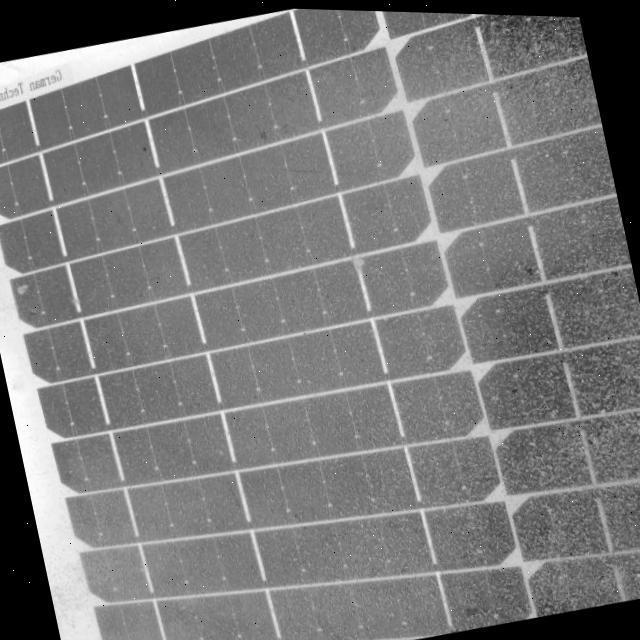Anomaly Solar Panel: (0, 0, 640, 640)
Surface Contaminant: (0, 12, 640, 640)
